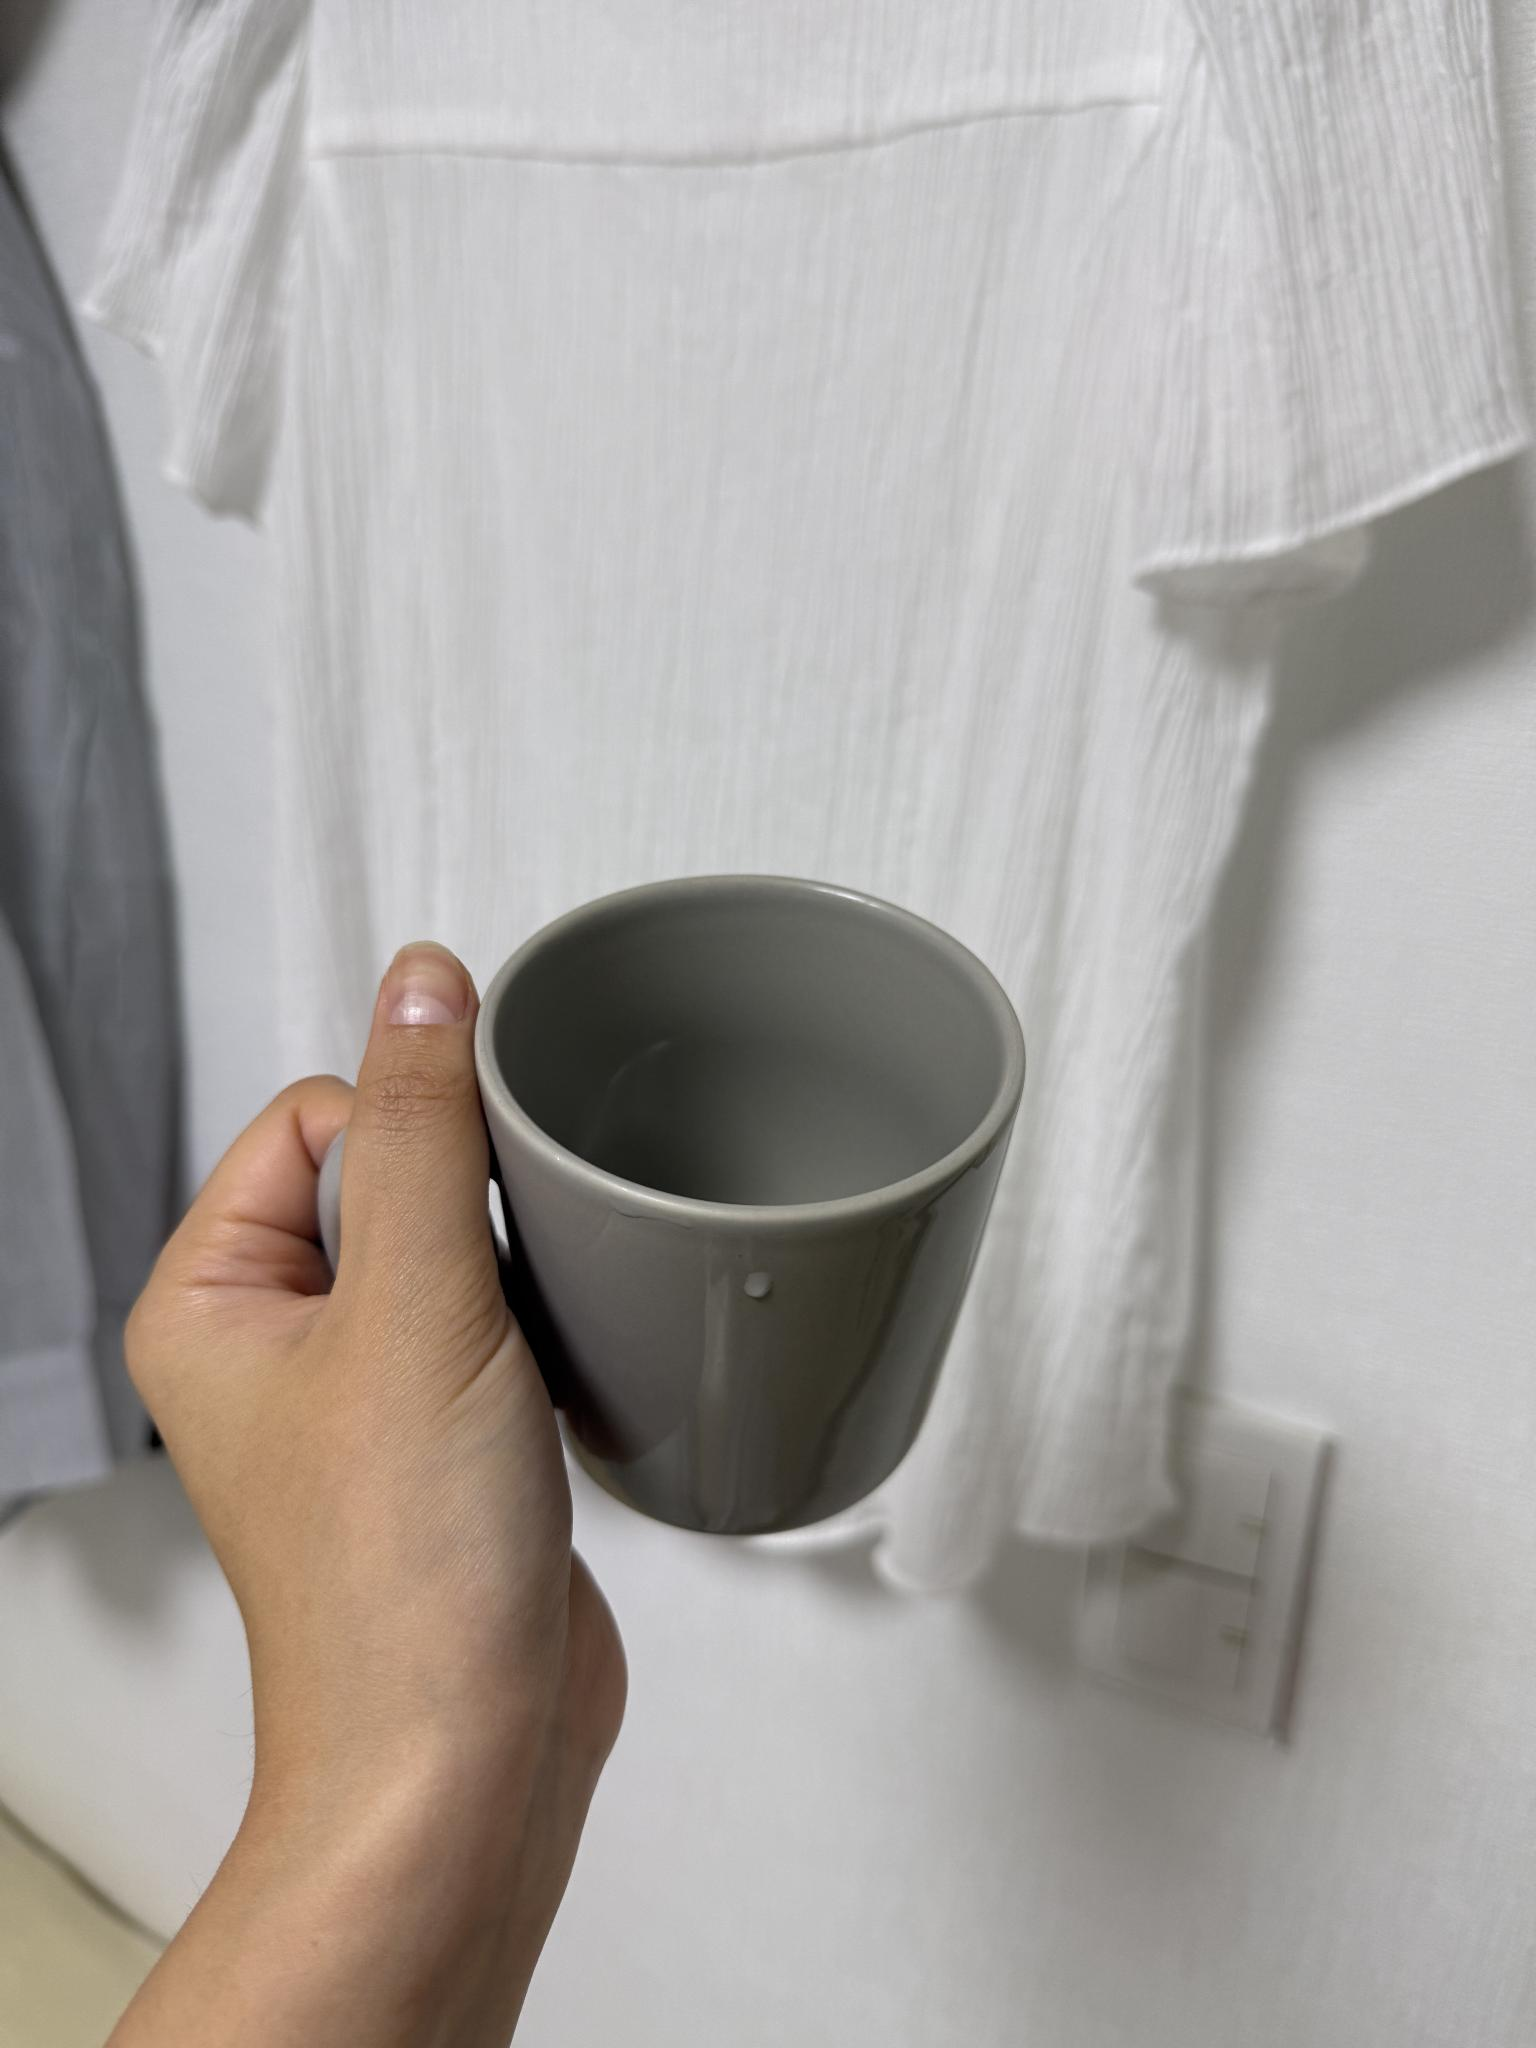cup: (94, 861, 1046, 1858)
